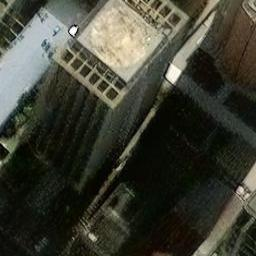heliponto: (78, 0, 165, 83)
